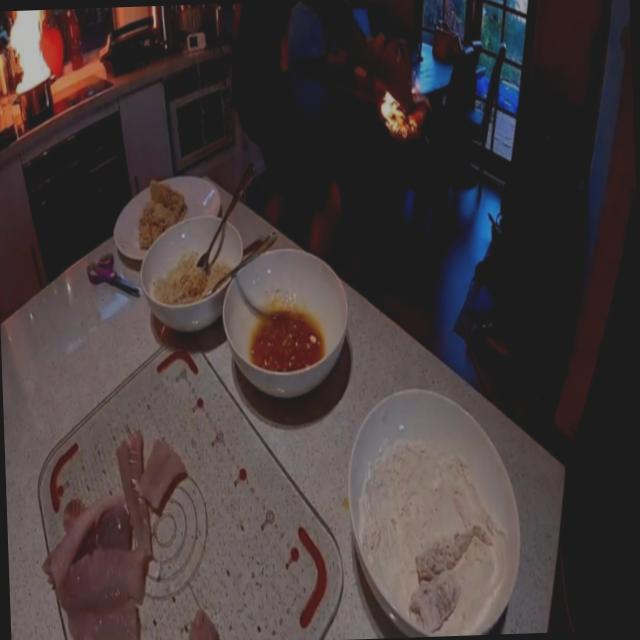fire: (0, 9, 63, 131)
